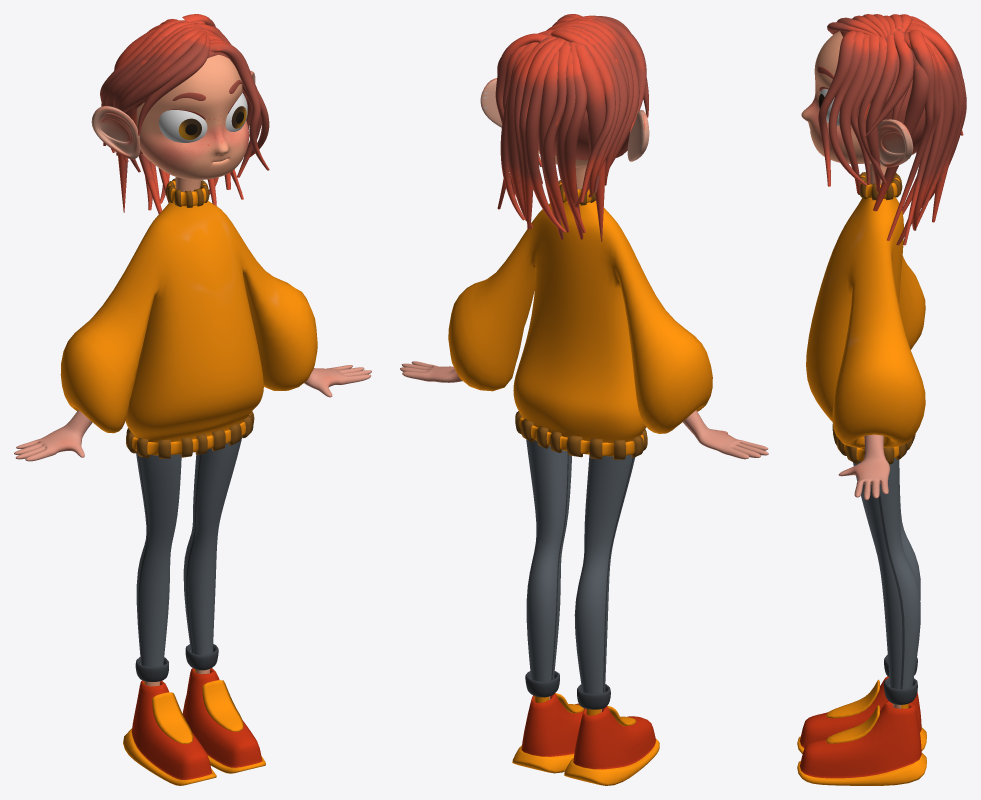
Rendered from girl_cartoon.glb.
3 views of the same model, side by side, from view 1: azimuth 30°, elevation 25°; view 2: azimuth 150°, elevation 25°; view 3: azimuth 270°, elevation 25° (orthographic). The views are drawn at different scales.
Parts seen in each view (by area): view 1: Plane.001, Plane.002, NurbsPath.005, Plane.005, Sphere.003, Plane.003, Cube, Sphere, Plane.004, Sphere.001; view 2: Plane.001, NurbsPath.005, Plane.002, Plane.005, Plane.003, Cube; view 3: Plane.001, NurbsPath.005, Plane.005, Plane.002, Sphere.003, Plane.003, Cube, Plane.004.
Part boxes in pixels (left/top/right/bottom): Plane.001: left=60, top=201, right=317, bottom=458; Plane.002: left=135, top=436, right=241, bottom=686; NurbsPath.005: left=100, top=14, right=269, bottom=213; Plane.005: left=123, top=668, right=265, bottom=785; Sphere.003: left=136, top=54, right=249, bottom=192; Plane.003: left=14, top=365, right=371, bottom=461; Cube: left=91, top=70, right=255, bottom=159; Sphere: left=158, top=93, right=247, bottom=142; Plane.004: left=166, top=178, right=209, bottom=207; Sphere.001: left=178, top=106, right=246, bottom=139; Plane.001: left=448, top=200, right=712, bottom=459; NurbsPath.005: left=495, top=14, right=648, bottom=241; Plane.002: left=525, top=439, right=635, bottom=715; Plane.005: left=512, top=693, right=659, bottom=785; Plane.003: left=400, top=361, right=768, bottom=459; Cube: left=480, top=78, right=649, bottom=161; Plane.001: left=806, top=197, right=925, bottom=464; NurbsPath.005: left=817, top=14, right=966, bottom=245; Plane.005: left=797, top=676, right=926, bottom=785; Plane.002: left=853, top=458, right=920, bottom=708; Sphere.003: left=801, top=31, right=916, bottom=184; Plane.003: left=838, top=434, right=889, bottom=500; Cube: left=877, top=119, right=913, bottom=167; Plane.004: left=856, top=172, right=902, bottom=200.
Size of the model in its own units: 0.7758 by 1.5 by 0.31.
Materials: 3 (2 with a texture image).
